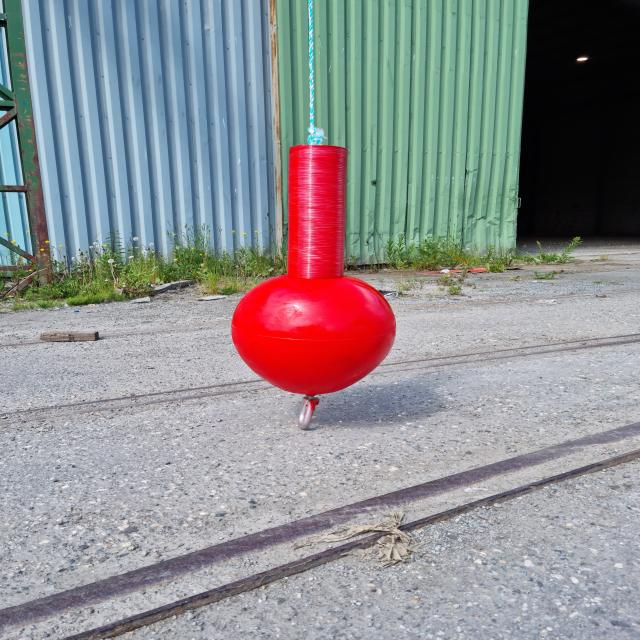red: (232, 146, 398, 394)
